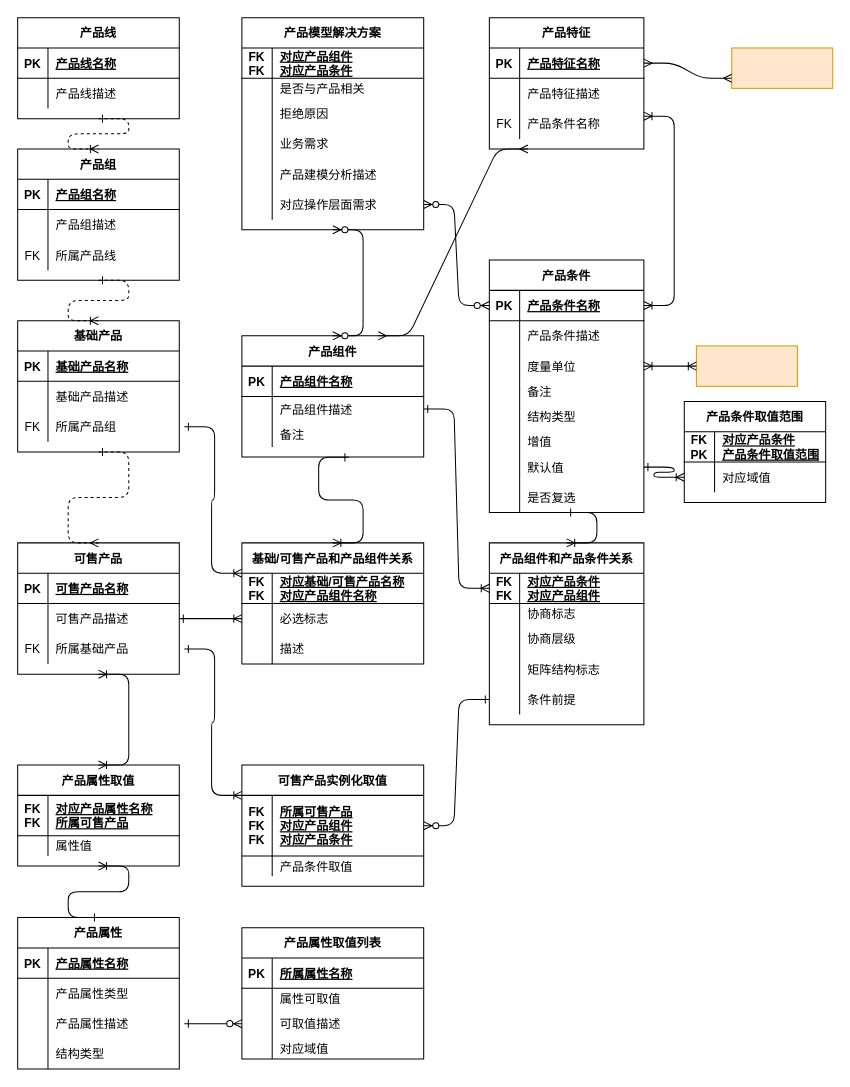
Image size: 850x1087. Some labels were removed from this diagram. Here are the shapes that lost their labels. From the top down, the centre of each, then its label:
At [782,67]: "任务".
At [746,365]: "步骤".
